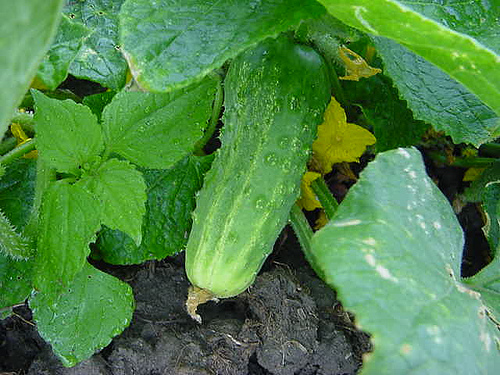cucumber: (185, 34, 332, 323)
